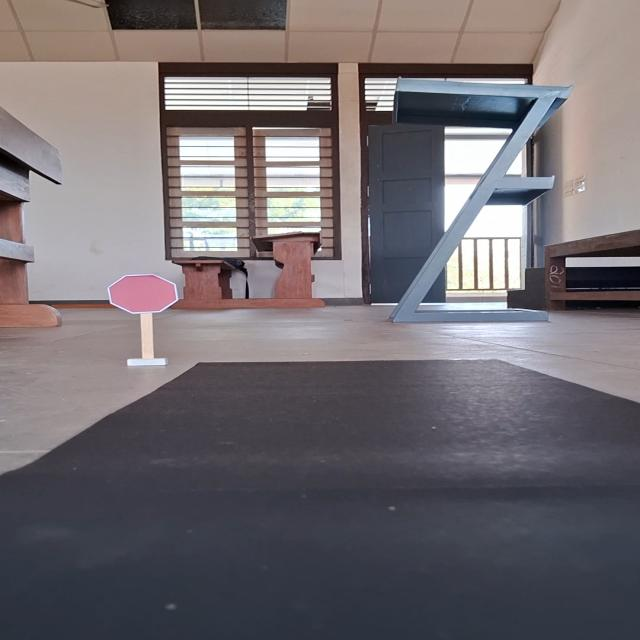Stop: (104, 272, 181, 315)
